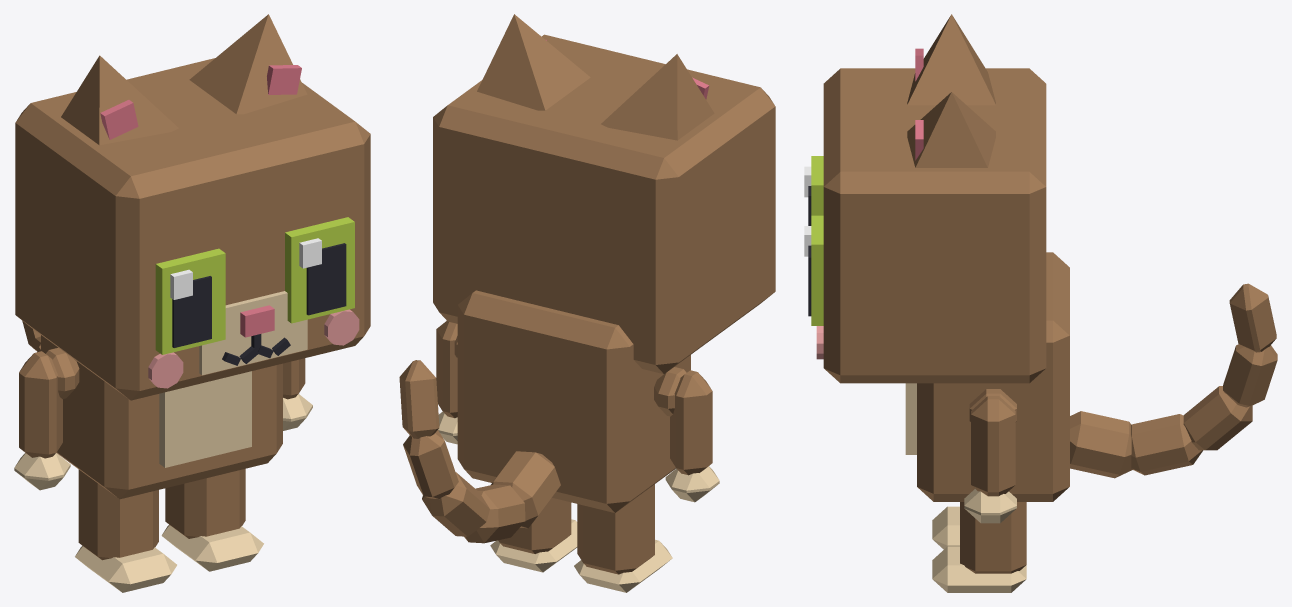
The model's file is CleanACat_NPC_BuilderKitten.fbx.
The picture shows the model from 3 angles, left to right: view 1: azimuth 30°, elevation 25°; view 2: azimuth 150°, elevation 25°; view 3: azimuth 270°, elevation 25°; orthographic projection. The views are drawn at different scales.
Parts seen in each view (by area): view 1: CleanACat_NPC_BuilderKitten_Head, CleanACat_NPC_BuilderKitten_Body, CleanACat_NPC_BuilderKitten_LegB2, CleanACat_NPC_BuilderKitten_LegB1, CleanACat_NPC_BuilderKitten_Eye2, CleanACat_NPC_BuilderKitten_Eye1, CleanACat_NPC_BuilderKitten_EarL, CleanACat_NPC_BuilderKitten_EarR, CleanACat_NPC_BuilderKitten_LegF2, CleanACat_NPC_BuilderKitten_LegF1; view 2: CleanACat_NPC_BuilderKitten_Head, CleanACat_NPC_BuilderKitten_Body, CleanACat_NPC_BuilderKitten_Tail, CleanACat_NPC_BuilderKitten_LegB2, CleanACat_NPC_BuilderKitten_EarL, CleanACat_NPC_BuilderKitten_EarR, CleanACat_NPC_BuilderKitten_LegF2, CleanACat_NPC_BuilderKitten_LegB1, CleanACat_NPC_BuilderKitten_LegF1; view 3: CleanACat_NPC_BuilderKitten_Head, CleanACat_NPC_BuilderKitten_Body, CleanACat_NPC_BuilderKitten_Tail, CleanACat_NPC_BuilderKitten_LegB1, CleanACat_NPC_BuilderKitten_LegF1, CleanACat_NPC_BuilderKitten_EarR, CleanACat_NPC_BuilderKitten_EarL, CleanACat_NPC_BuilderKitten_Eye1, CleanACat_NPC_BuilderKitten_Eye2, CleanACat_NPC_BuilderKitten_LegB2.
Boxes of the visible parts, box(x1,y1,x2,y2) form: CleanACat_NPC_BuilderKitten_Head: box(15, 58, 370, 400); CleanACat_NPC_BuilderKitten_Body: box(41, 335, 282, 499); CleanACat_NPC_BuilderKitten_LegB2: box(75, 469, 176, 592); CleanACat_NPC_BuilderKitten_LegB1: box(161, 468, 263, 571); CleanACat_NPC_BuilderKitten_Eye2: box(155, 248, 225, 354); CleanACat_NPC_BuilderKitten_Eye1: box(285, 217, 354, 323); CleanACat_NPC_BuilderKitten_EarL: box(189, 14, 307, 114); CleanACat_NPC_BuilderKitten_EarR: box(61, 55, 178, 145); CleanACat_NPC_BuilderKitten_LegF2: box(14, 351, 70, 490); CleanACat_NPC_BuilderKitten_LegF1: box(283, 358, 312, 430); CleanACat_NPC_BuilderKitten_Head: box(433, 34, 775, 373); CleanACat_NPC_BuilderKitten_Body: box(454, 290, 690, 512); CleanACat_NPC_BuilderKitten_Tail: box(399, 360, 560, 543); CleanACat_NPC_BuilderKitten_LegB2: box(574, 484, 672, 592); CleanACat_NPC_BuilderKitten_EarL: box(477, 14, 590, 110); CleanACat_NPC_BuilderKitten_EarR: box(601, 54, 714, 140); CleanACat_NPC_BuilderKitten_LegF2: box(665, 370, 719, 502); CleanACat_NPC_BuilderKitten_LegB1: box(490, 498, 577, 572); CleanACat_NPC_BuilderKitten_LegF1: box(436, 321, 457, 444); CleanACat_NPC_BuilderKitten_Head: box(816, 68, 1046, 383); CleanACat_NPC_BuilderKitten_Body: box(905, 252, 1069, 501); CleanACat_NPC_BuilderKitten_Tail: box(1070, 283, 1277, 478); CleanACat_NPC_BuilderKitten_LegB1: box(932, 502, 1026, 592); CleanACat_NPC_BuilderKitten_LegF1: box(964, 396, 1016, 523); CleanACat_NPC_BuilderKitten_EarR: box(907, 14, 995, 105); CleanACat_NPC_BuilderKitten_EarL: box(907, 92, 995, 167); CleanACat_NPC_BuilderKitten_Eye1: box(804, 215, 823, 325); CleanACat_NPC_BuilderKitten_Eye2: box(804, 156, 823, 225); CleanACat_NPC_BuilderKitten_LegB2: box(932, 506, 959, 549).
Size of the model in its own units: 1.07 by 1.93 by 1.62.
Materials: 1 (1 with a texture image).
